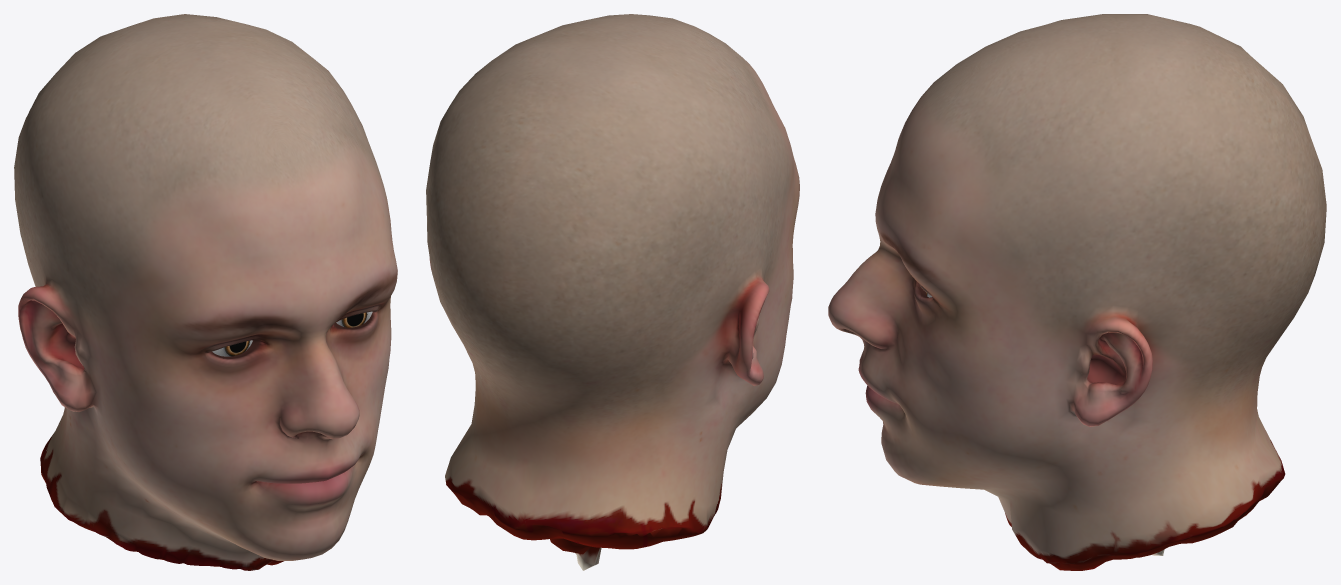
Rendered from Head_1.fbx.
The picture shows the model from 3 angles, left to right: view 1: azimuth 30°, elevation 25°; view 2: azimuth 150°, elevation 25°; view 3: azimuth 270°, elevation 25°; orthographic projection. The views are drawn at different scales.
Parts seen in each view (by area): view 1: Head; view 2: Head; view 3: Head.
Boxes of the visible parts, <box> form: Head: <box>14,14,397,570</box>; Head: <box>426,14,799,570</box>; Head: <box>828,14,1326,570</box>.
Bounding box in the file's own units: 0.2657 × 0.3984 × 0.3439.
Materials: 2 (2 with a texture image).
